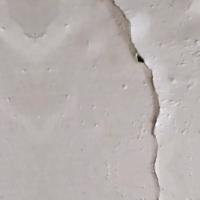crack: (109, 0, 186, 199)
